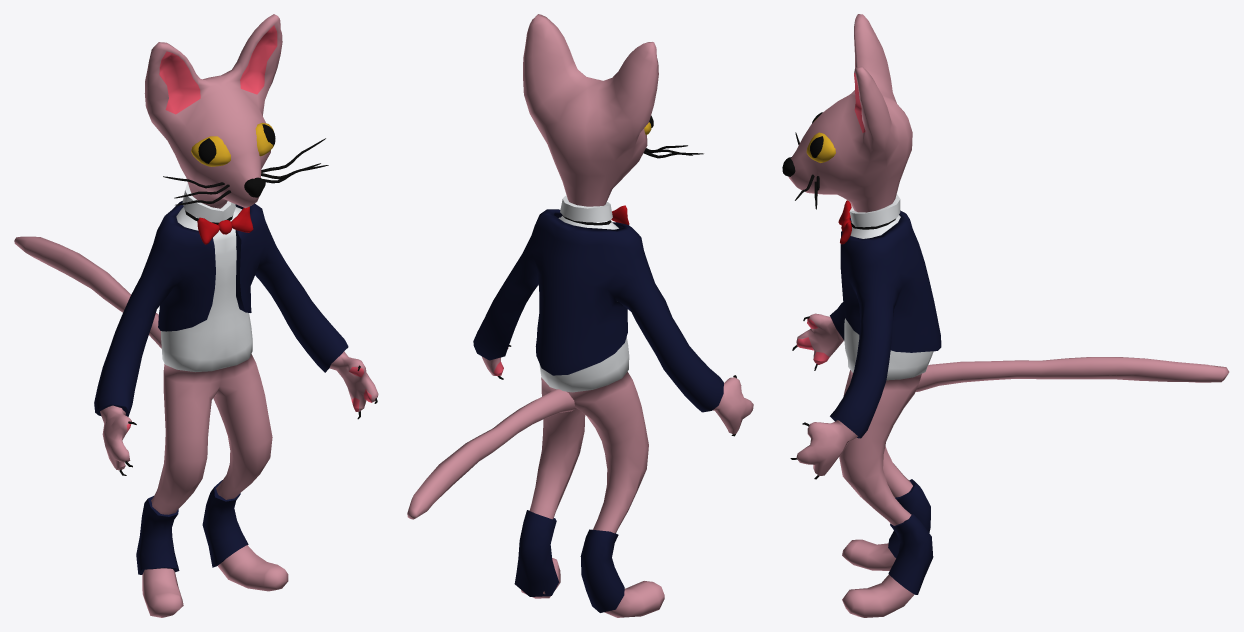
The model's file is CAT_II.fbx.
3 views of the same model, side by side, from view 1: azimuth 30°, elevation 25°; view 2: azimuth 150°, elevation 25°; view 3: azimuth 270°, elevation 25° (orthographic). The views are drawn at different scales.
Parts seen in each view (by area): view 1: CAT_II_001; view 2: CAT_II_001; view 3: CAT_II_001.
Boxes of the visible parts, <box> form: CAT_II_001: <box>14,14,378,617</box>; CAT_II_001: <box>407,14,753,617</box>; CAT_II_001: <box>782,14,1229,617</box>.
Size of the model in its own units: 0.2404 by 0.506 by 0.3726.
